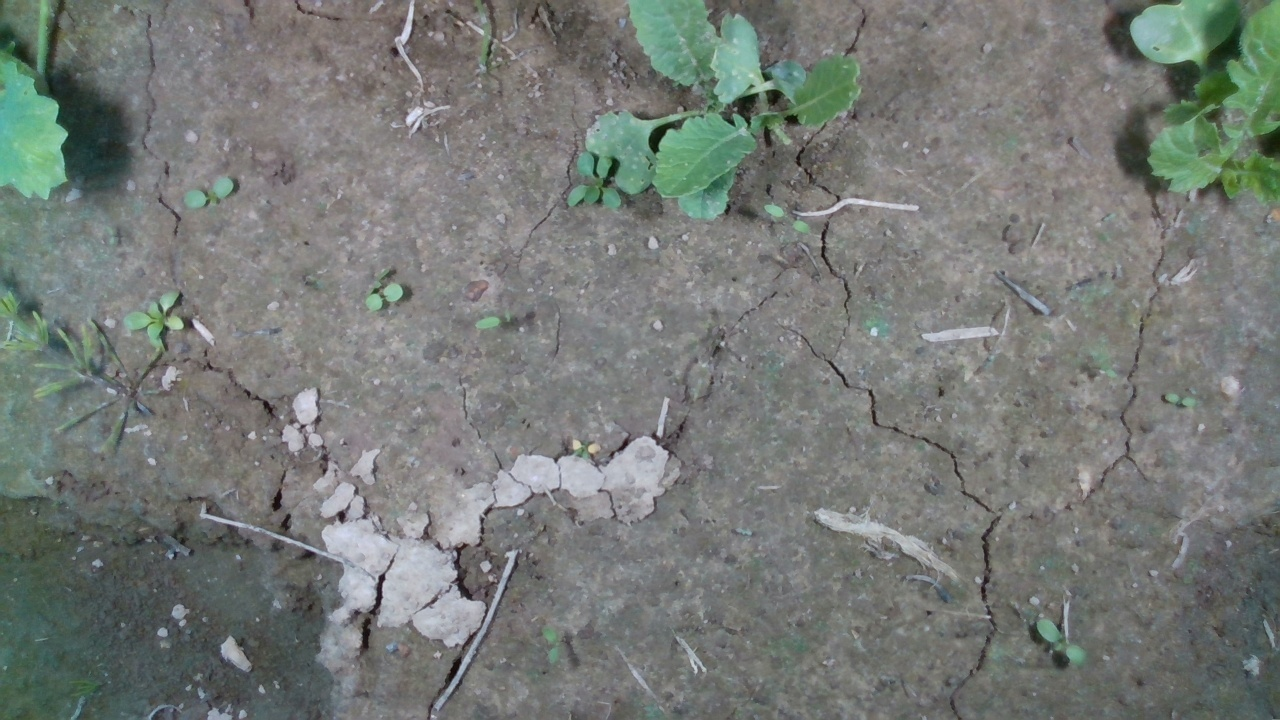weed: (1036, 617, 1088, 665), (180, 174, 234, 209), (762, 202, 812, 237), (364, 281, 404, 311), (540, 622, 562, 666), (1163, 391, 1201, 410), (473, 315, 502, 330)
